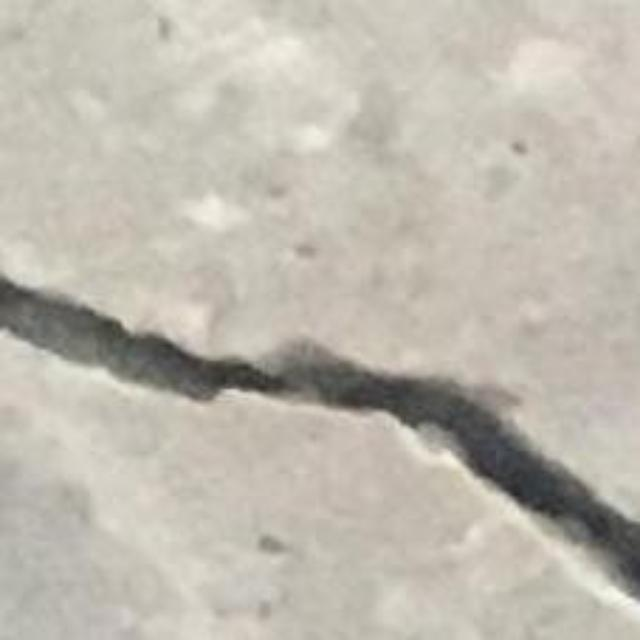crack: (0, 274, 639, 603)
